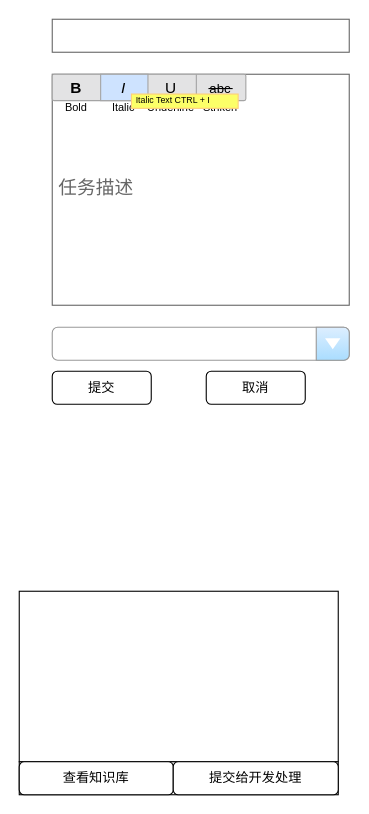
This 369x814 diagram has some shape labels left out. Each missing label, with the centre of its shape:
创建任务: the point at 200,35
开发人员: the point at 200,343
问题内容: the point at 178,676
